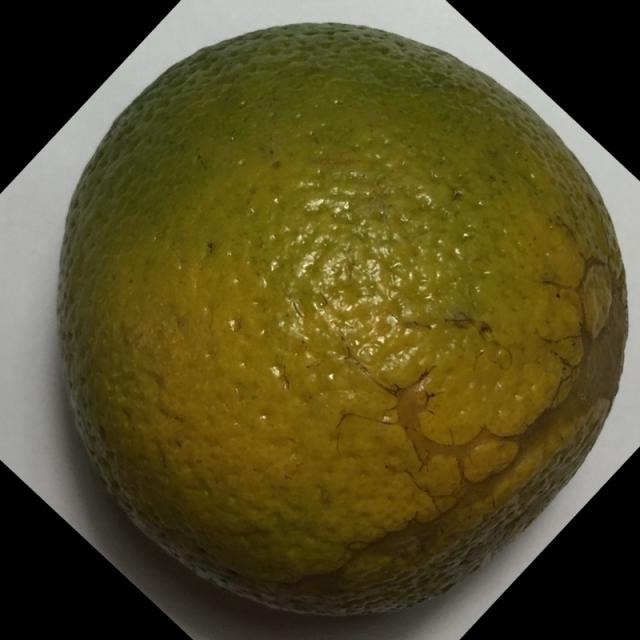canker: (52, 14, 638, 640)
